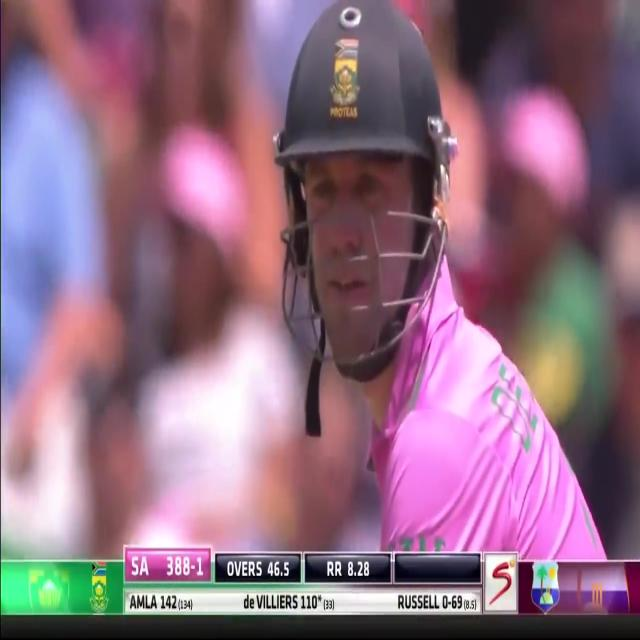Ball: (215, 3, 617, 566)
